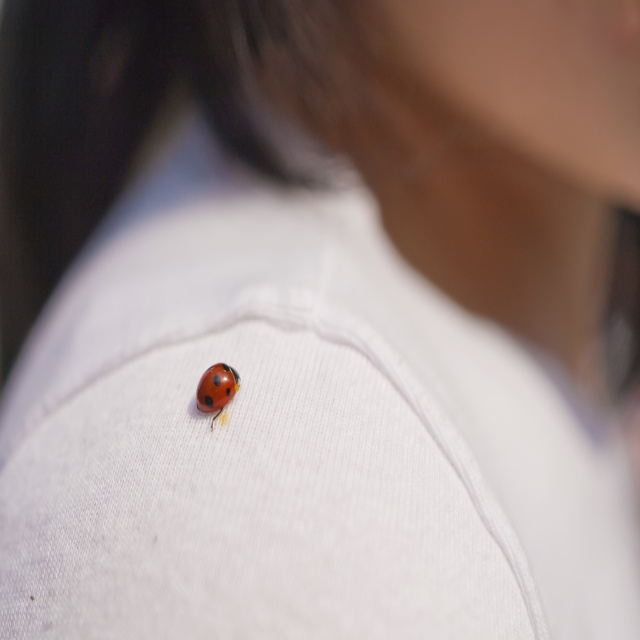Ladybug: (194, 359, 242, 435)
